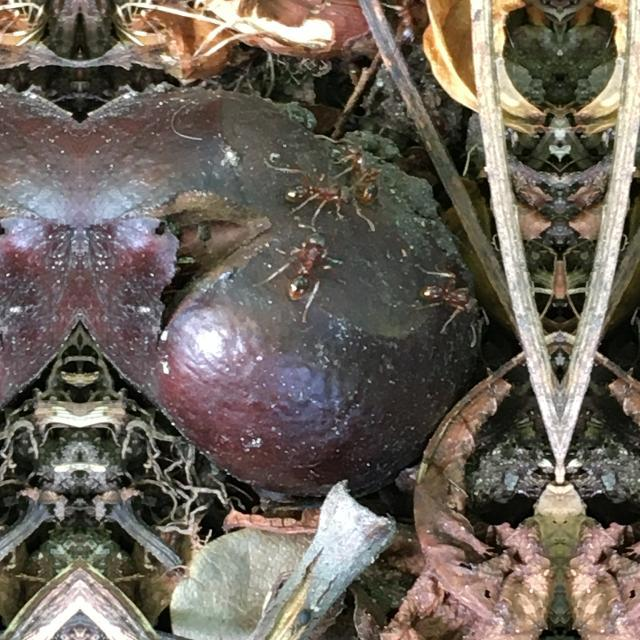Myrmica: (278, 224, 334, 312), (279, 164, 347, 216), (342, 138, 386, 218), (416, 267, 480, 319), (386, 0, 426, 48)
